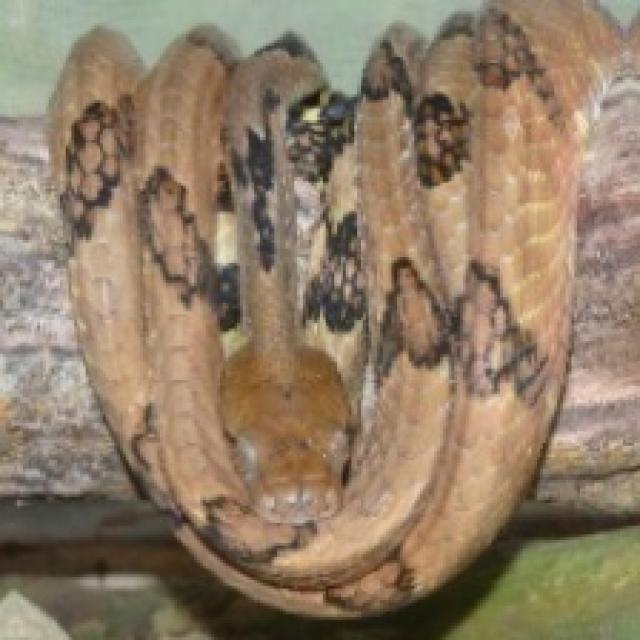dog-toothed cat snake: (49, 0, 620, 614)
